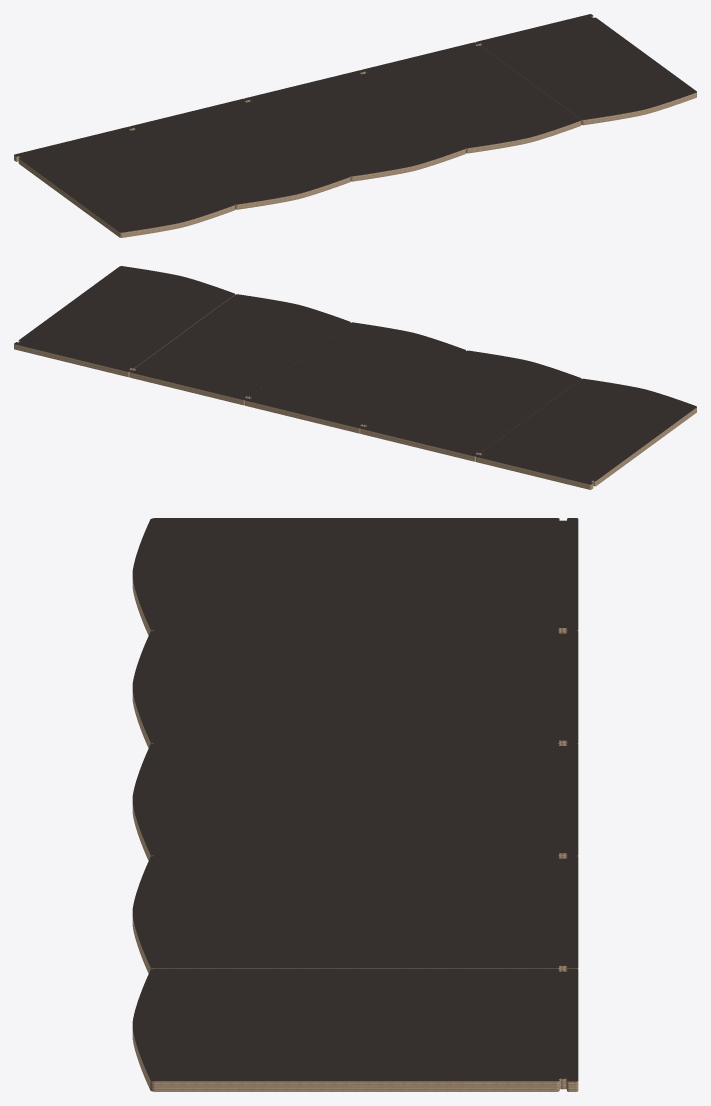
The model's file is Container_Kaaned_Pos1-5_Puhas_v1.glb.
3 views of the same model, one above another, from view 1: azimuth 30°, elevation 25°; view 2: azimuth 150°, elevation 25°; view 3: azimuth 270°, elevation 25° (orthographic). The views are drawn at different scales.
Parts seen in each view (by area): view 1: Container_Kaas_Pos1_Puhas_Kleepsuta, Container_Kaas_Pos5_Puhas_Kleepsuta, Container_Kaas_Pos2_Puhas_Kleepsuta, Container_Kaas_Pos4_Puhas_Kleepsuta, Container_Kaas_Pos3_Puhas_Kleepsuta; view 2: Container_Kaas_Pos1_Puhas_Kleepsuta, Container_Kaas_Pos5_Puhas_Kleepsuta, Container_Kaas_Pos2_Puhas_Kleepsuta, Container_Kaas_Pos4_Puhas_Kleepsuta, Container_Kaas_Pos3_Puhas_Kleepsuta; view 3: Container_Kaas_Pos5_Puhas_Kleepsuta, Container_Kaas_Pos2_Puhas_Kleepsuta, Container_Kaas_Pos4_Puhas_Kleepsuta, Container_Kaas_Pos1_Puhas_Kleepsuta, Container_Kaas_Pos3_Puhas_Kleepsuta.
Boxes of the visible parts, left/top/right/bottom form: Container_Kaas_Pos1_Puhas_Kleepsuta: left=14, top=126, right=234, bottom=237; Container_Kaas_Pos5_Puhas_Kleepsuta: left=476, top=14, right=696, bottom=125; Container_Kaas_Pos2_Puhas_Kleepsuta: left=129, top=98, right=350, bottom=209; Container_Kaas_Pos4_Puhas_Kleepsuta: left=360, top=42, right=581, bottom=153; Container_Kaas_Pos3_Puhas_Kleepsuta: left=245, top=70, right=465, bottom=181; Container_Kaas_Pos1_Puhas_Kleepsuta: left=476, top=378, right=696, bottom=489; Container_Kaas_Pos5_Puhas_Kleepsuta: left=14, top=266, right=234, bottom=377; Container_Kaas_Pos2_Puhas_Kleepsuta: left=360, top=350, right=581, bottom=461; Container_Kaas_Pos4_Puhas_Kleepsuta: left=129, top=294, right=350, bottom=405; Container_Kaas_Pos3_Puhas_Kleepsuta: left=245, top=322, right=465, bottom=433; Container_Kaas_Pos5_Puhas_Kleepsuta: left=132, top=969, right=578, bottom=1091; Container_Kaas_Pos2_Puhas_Kleepsuta: left=132, top=630, right=578, bottom=747; Container_Kaas_Pos4_Puhas_Kleepsuta: left=132, top=856, right=578, bottom=973; Container_Kaas_Pos1_Puhas_Kleepsuta: left=132, top=518, right=578, bottom=635; Container_Kaas_Pos3_Puhas_Kleepsuta: left=132, top=743, right=578, bottom=860.
Size of the model in its own units: 1.39 by 0.012 by 0.4634.
2 materials, 1 textured.
